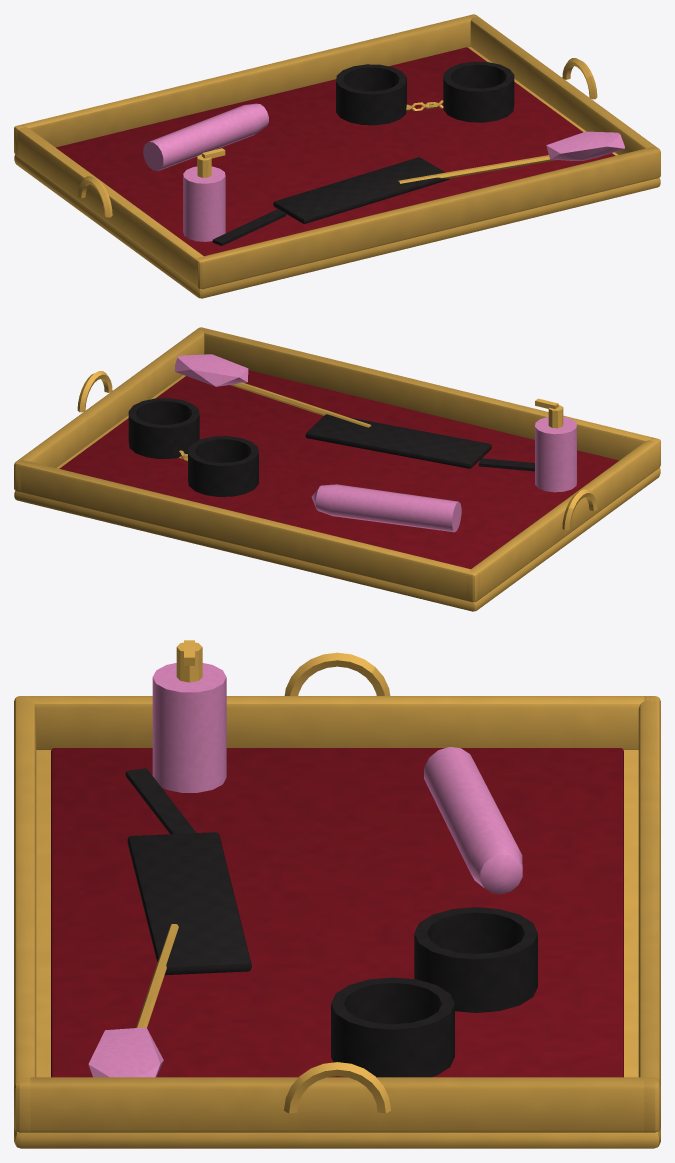
The model's file is Furn_Toy_DisplayTray.fbx.
3 views of the same model, one above another, from view 1: azimuth 30°, elevation 25°; view 2: azimuth 150°, elevation 25°; view 3: azimuth 270°, elevation 25° (orthographic). The views are drawn at different scales.
Parts seen in each view (by area): view 1: Toy_DisplayTray; view 2: Toy_DisplayTray; view 3: Toy_DisplayTray.
Part boxes in pixels (<box>): Toy_DisplayTray: <box>14,14,660,298</box>; Toy_DisplayTray: <box>14,327,660,611</box>; Toy_DisplayTray: <box>14,640,660,1148</box>.
Size of the model in its own units: 0.5316 by 0.0995 by 0.35.
Materials: 4 (4 with a texture image).
